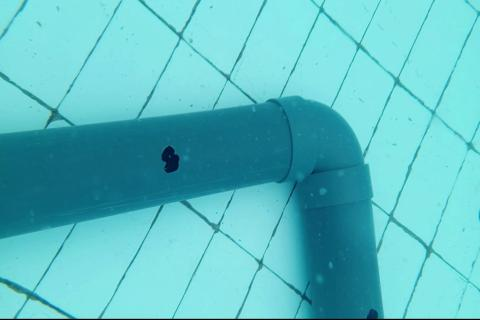kebocoran: (161, 142, 180, 176), (366, 307, 379, 320)
